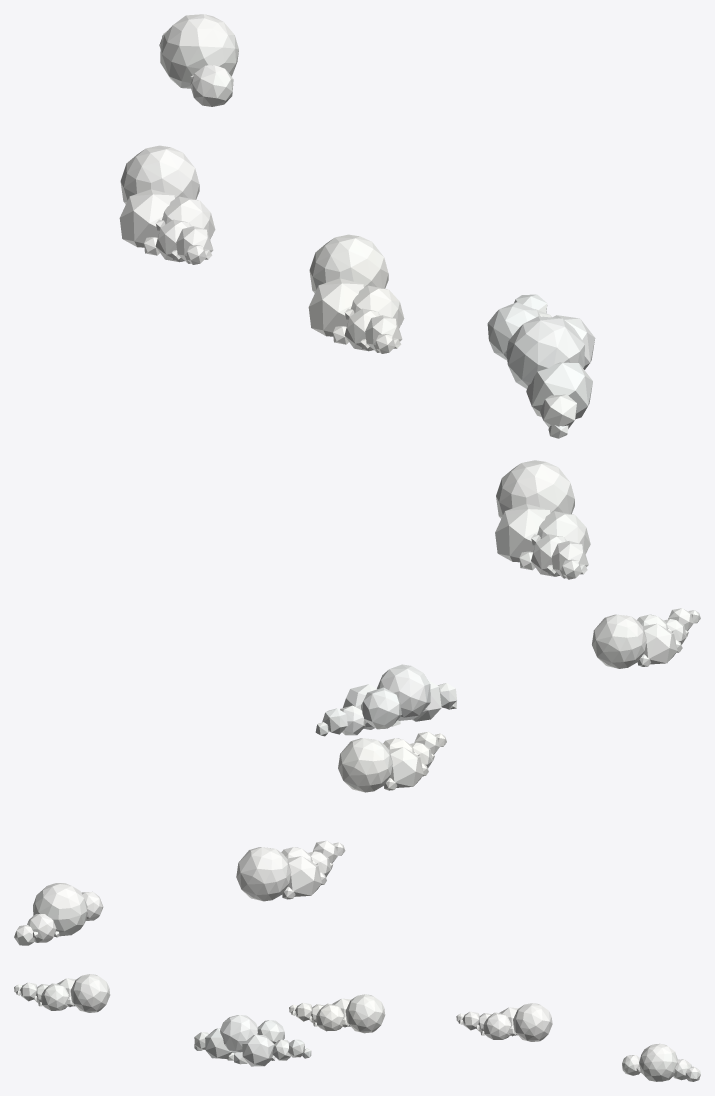
The model's file is cloud1.glb.
3 views of the same model, one above another, from view 1: azimuth 30°, elevation 25°; view 2: azimuth 150°, elevation 25°; view 3: azimuth 270°, elevation 25° (orthographic). The views are drawn at different scales.
Parts seen in each view (by area): view 1: Sphere.036; view 2: Sphere.036; view 3: Sphere.036.
Part boxes in pixels (<box>): Sphere.036: <box>119,14,595,579</box>; Sphere.036: <box>14,608,700,945</box>; Sphere.036: <box>14,974,700,1081</box>.
Size of the model in its own units: 9.42 by 2.63 by 34.76.
Materials: 1 (1 with a texture image).
